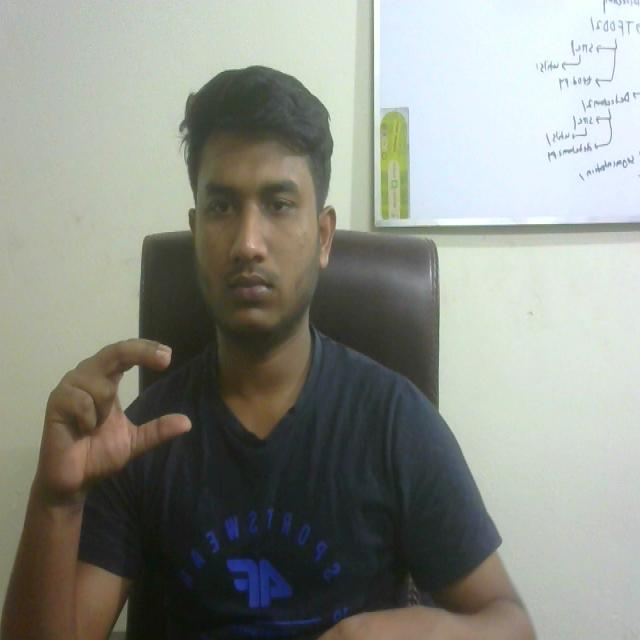D: (19, 311, 195, 512)
